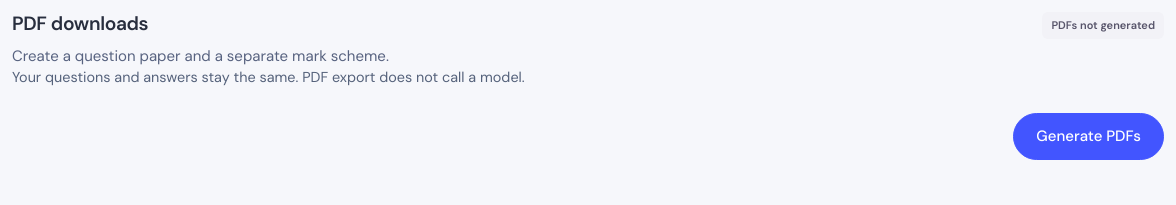
Test: keeps a failed request retryable with the same key
Later steps or results of the test are not shown.
Click the button "Generate PDFs": [1089, 136] box [1013, 113, 1164, 160]
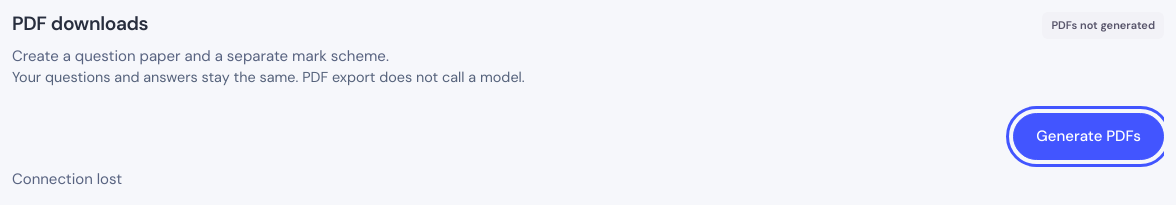
Expected: the message "Connection lost" is shown, [12, 169, 122, 189]
